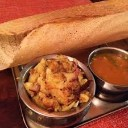dosa: (1, 4, 128, 67)
